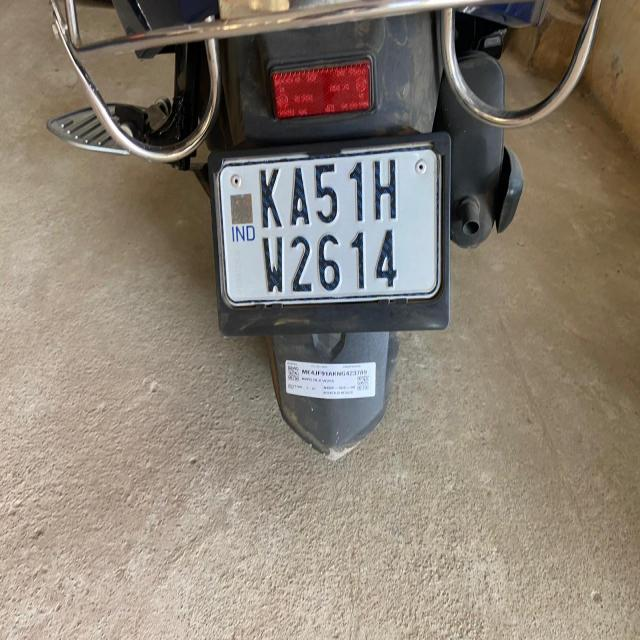1: (345, 152, 369, 226), (350, 227, 368, 298)
4: (374, 227, 401, 293)
5: (311, 159, 345, 234)
6: (314, 230, 346, 298)
A: (290, 162, 310, 230)
H: (373, 151, 401, 230)
K: (258, 164, 286, 234)
W: (258, 231, 290, 293)
